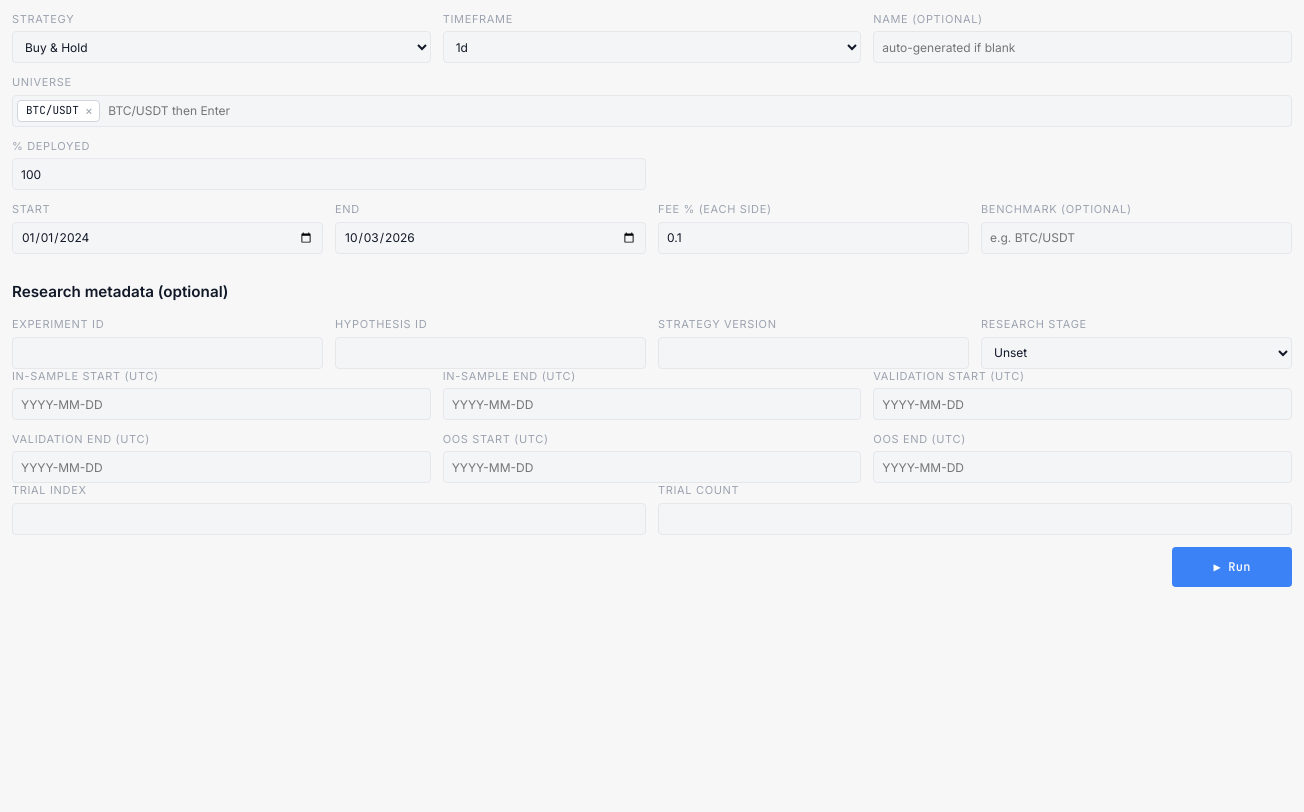
Test case: StrategyForm › server error renders the message
This screenshot has width=1304, height=812.
Click the button "▶ Run" at point(1232, 567), box [1172,547,1292,587]
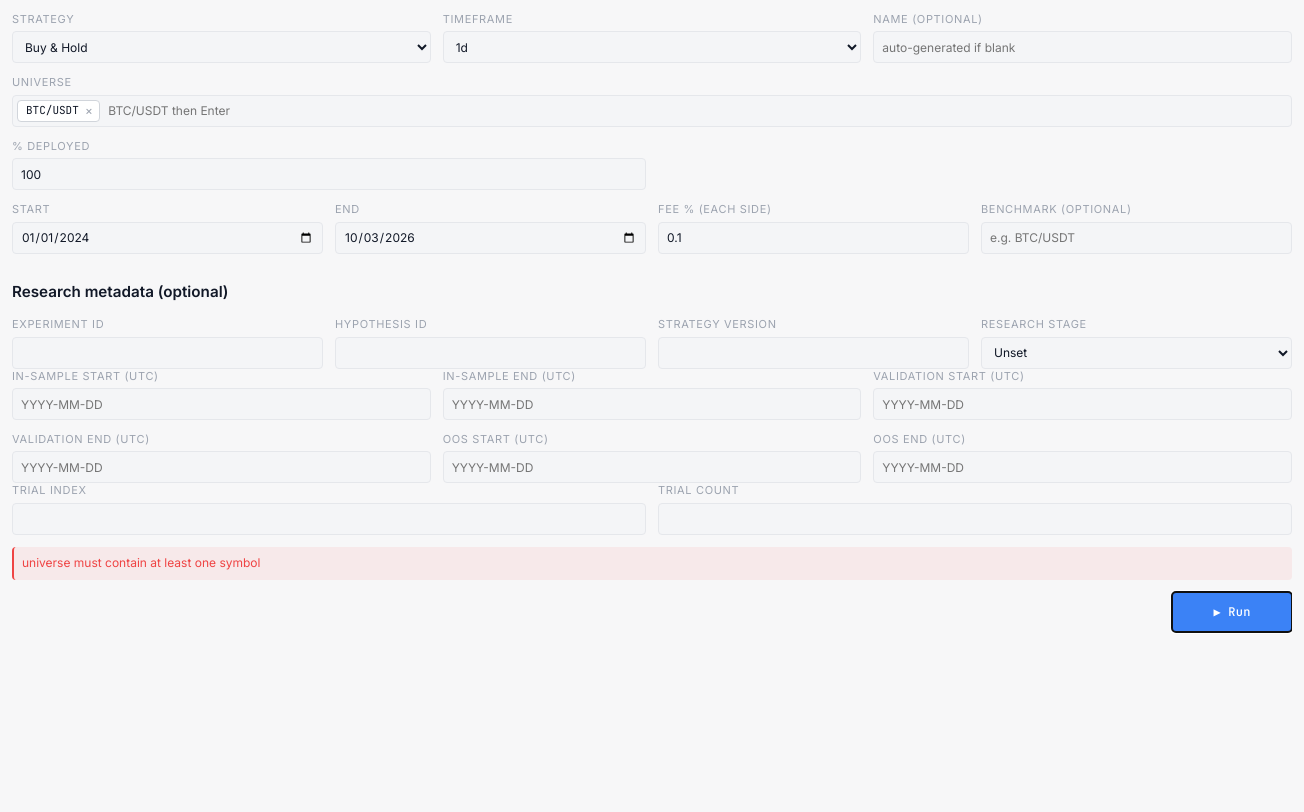
expect the text with class "strategy-form__error" reads "universe must contain at least one symbol": met, box [22,555,260,570]
